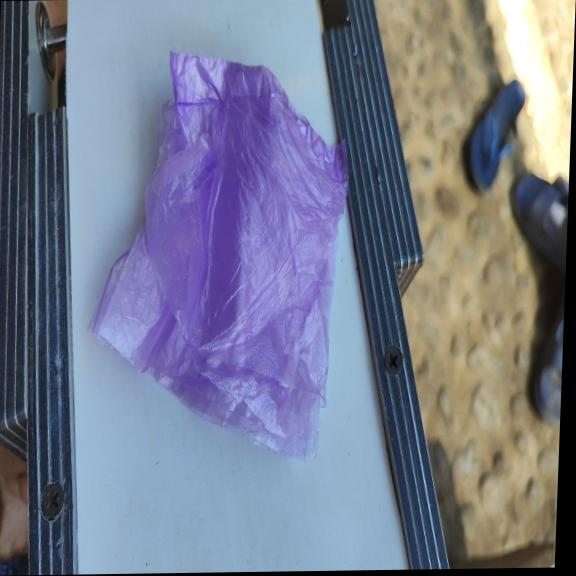Plastik: (82, 44, 353, 466)
